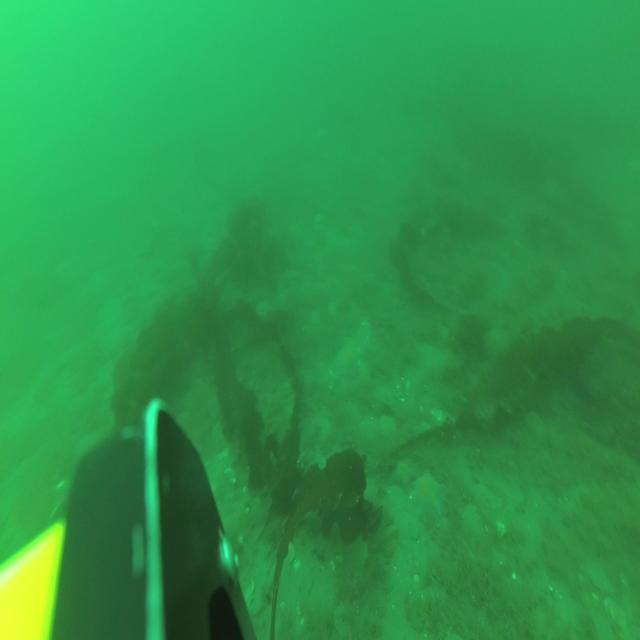scallop: (343, 534, 372, 571)
starfish: (411, 468, 444, 520), (390, 451, 419, 496), (334, 337, 363, 382)
